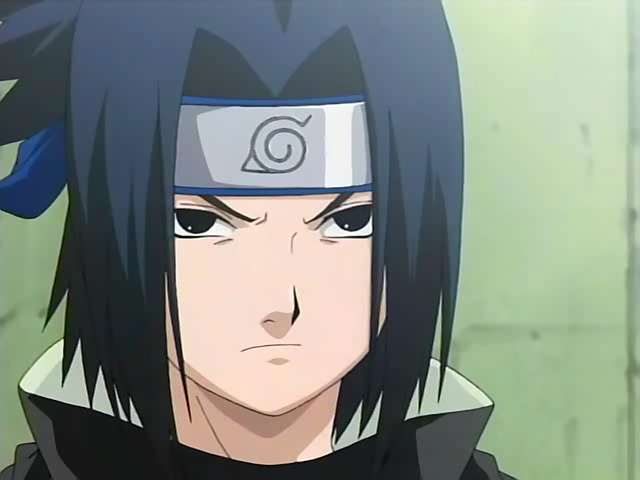sasuke: (110, 81, 407, 421)
